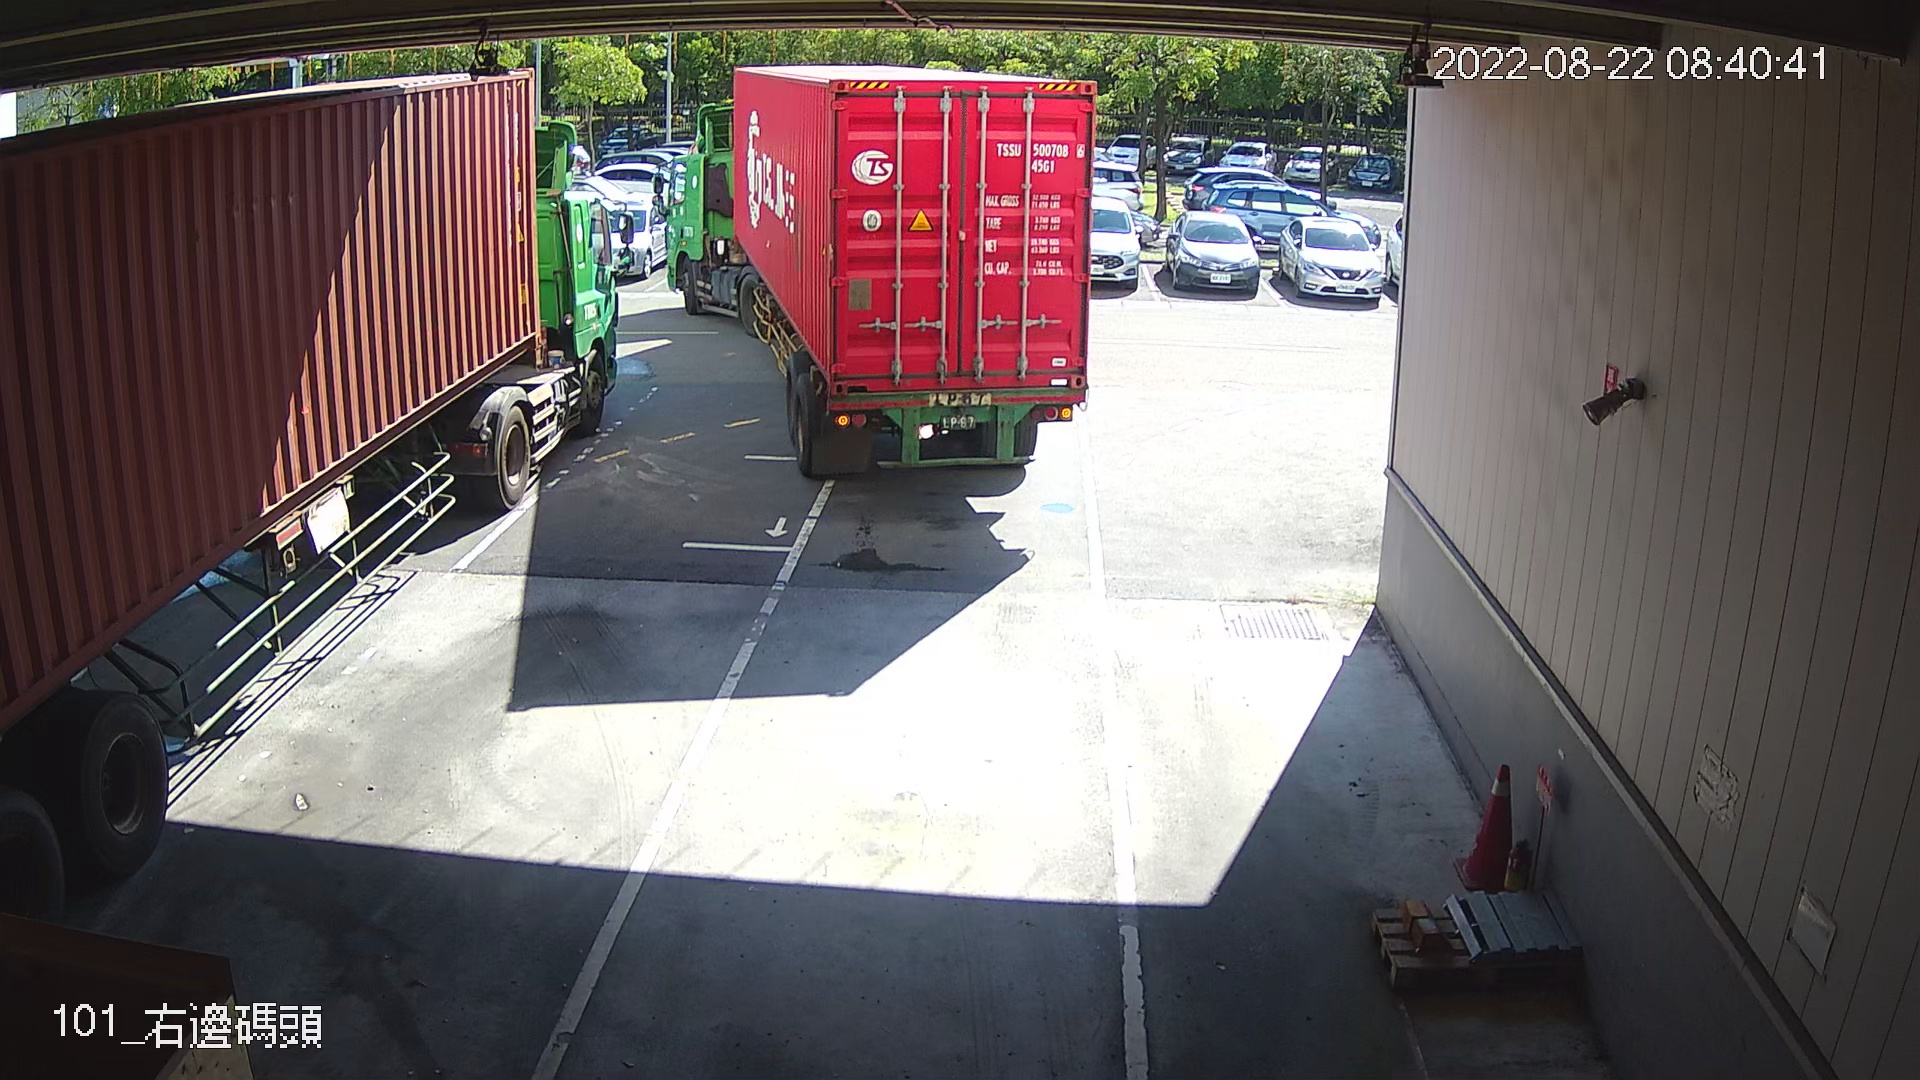container: (992, 135, 1088, 179)
